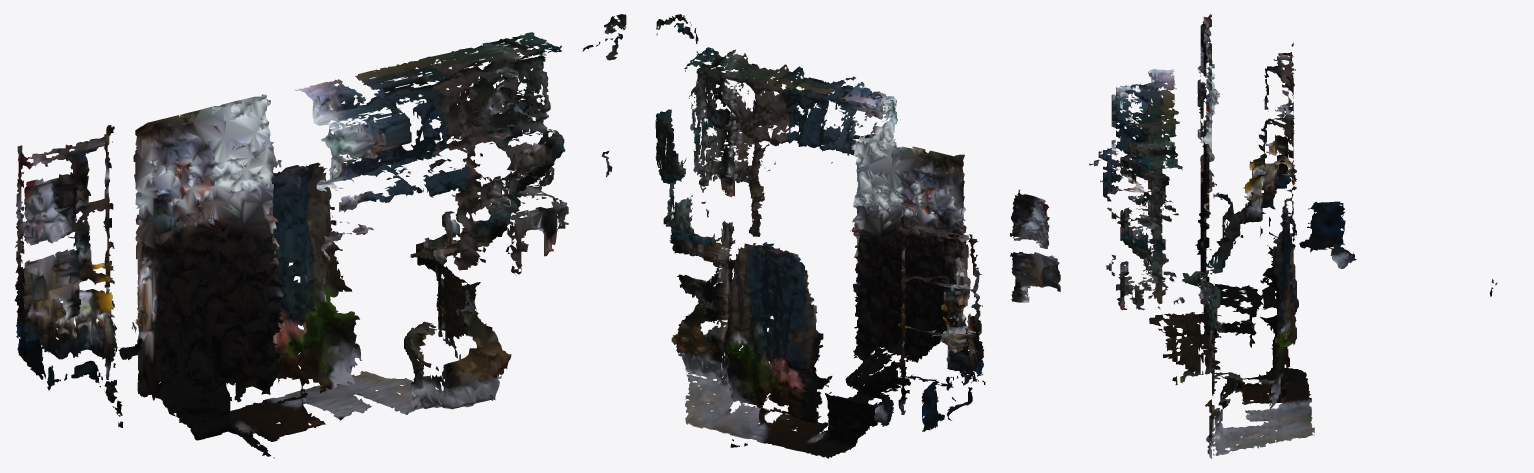
Rendered from mesh_iter_0001.obj.
3 views of the same model, side by side, from view 1: azimuth 30°, elevation 25°; view 2: azimuth 150°, elevation 25°; view 3: azimuth 270°, elevation 25° (orthographic). The views are drawn at different scales.
Bounding box in the file's own units: 3 × 2.13 × 2.5.
